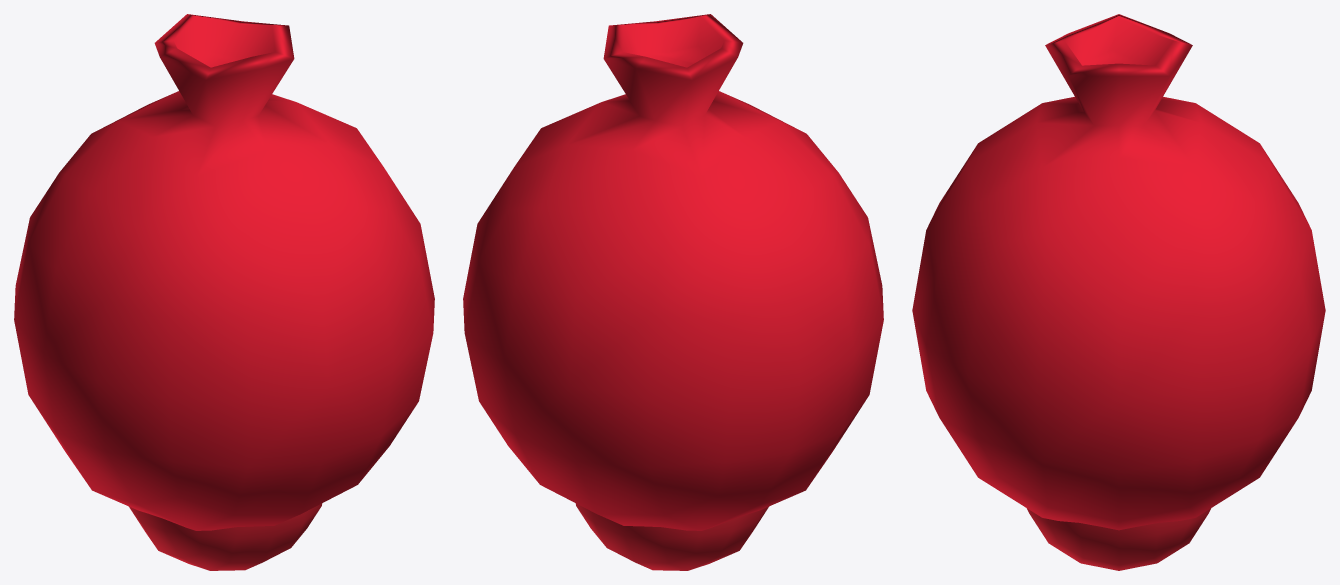
The picture shows the model from 3 angles, left to right: view 1: azimuth 30°, elevation 25°; view 2: azimuth 150°, elevation 25°; view 3: azimuth 270°, elevation 25°; orthographic projection.
Parts seen in each view (by area): view 1: Display, ProjectileTemplate; view 2: Display, ProjectileTemplate; view 3: Display, ProjectileTemplate.
Part boxes in pixels (<box>): Display: <box>14,14,434,530</box>; ProjectileTemplate: <box>129,503,322,570</box>; Display: <box>463,14,883,530</box>; ProjectileTemplate: <box>575,503,768,570</box>; Display: <box>912,14,1325,530</box>; ProjectileTemplate: <box>1027,508,1210,570</box>.
Size of the model in its own units: 0.7028 by 0.9751 by 0.7028.
